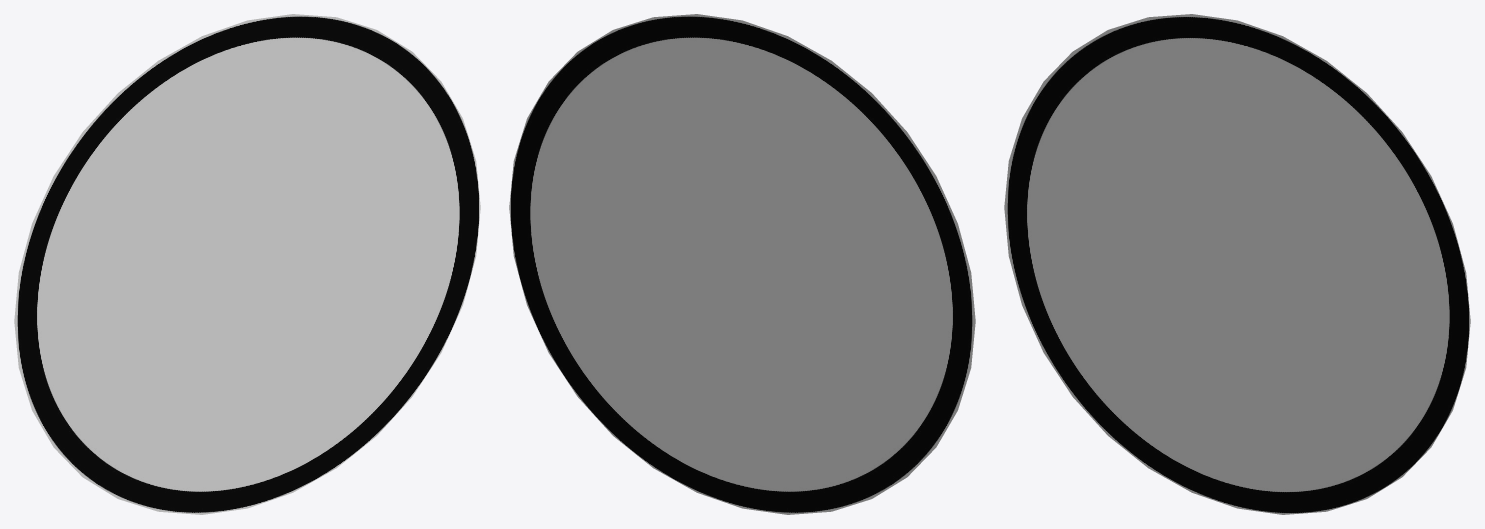
Rendered from node_disc1.obj.
3 views of the same model, side by side, from view 1: azimuth 30°, elevation 25°; view 2: azimuth 150°, elevation 25°; view 3: azimuth 330°, elevation 25° (orthographic).
Parts seen in each view (by area): view 1: Circle; view 2: Circle; view 3: Circle.
Part boxes in pixels (x1,y1,x2,y2): Circle: (14,14,480,514); Circle: (509,14,975,514); Circle: (1004,14,1470,514).
Bounding box in the file's own units: 0.04 × 0.04 × 0.
